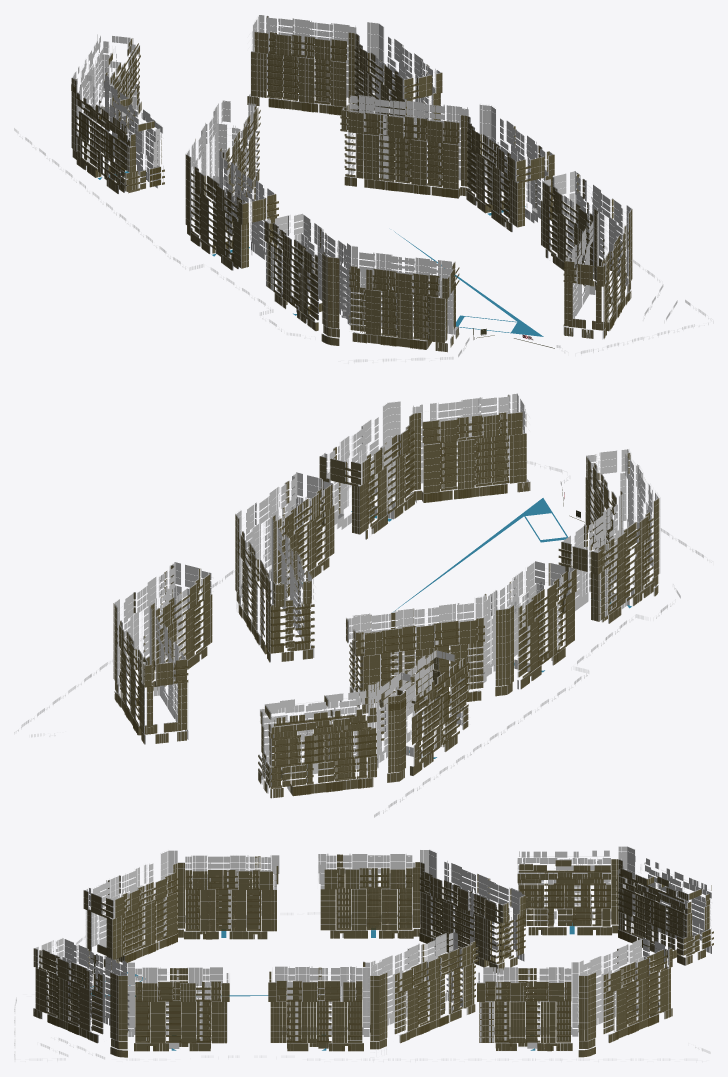
The model's file is Yaafour_Mesh_no_b_2.glb.
The picture shows the model from 3 angles, top to bottom: view 1: azimuth 30°, elevation 25°; view 2: azimuth 150°, elevation 25°; view 3: azimuth 270°, elevation 25°; orthographic projection. The views are drawn at different scales.
Visible parts, largest first — view 1: Mesh_no_b_2; view 2: Mesh_no_b_2; view 3: Mesh_no_b_2.
Part boxes in pixels (x1=…): Mesh_no_b_2: x1=14, y1=15, x2=713, y2=362; Mesh_no_b_2: x1=14, y1=393, x2=711, y2=817; Mesh_no_b_2: x1=14, y1=846, x2=713, y2=1061.
Bounding box in the file's own units: 193 × 47.57 × 366.
